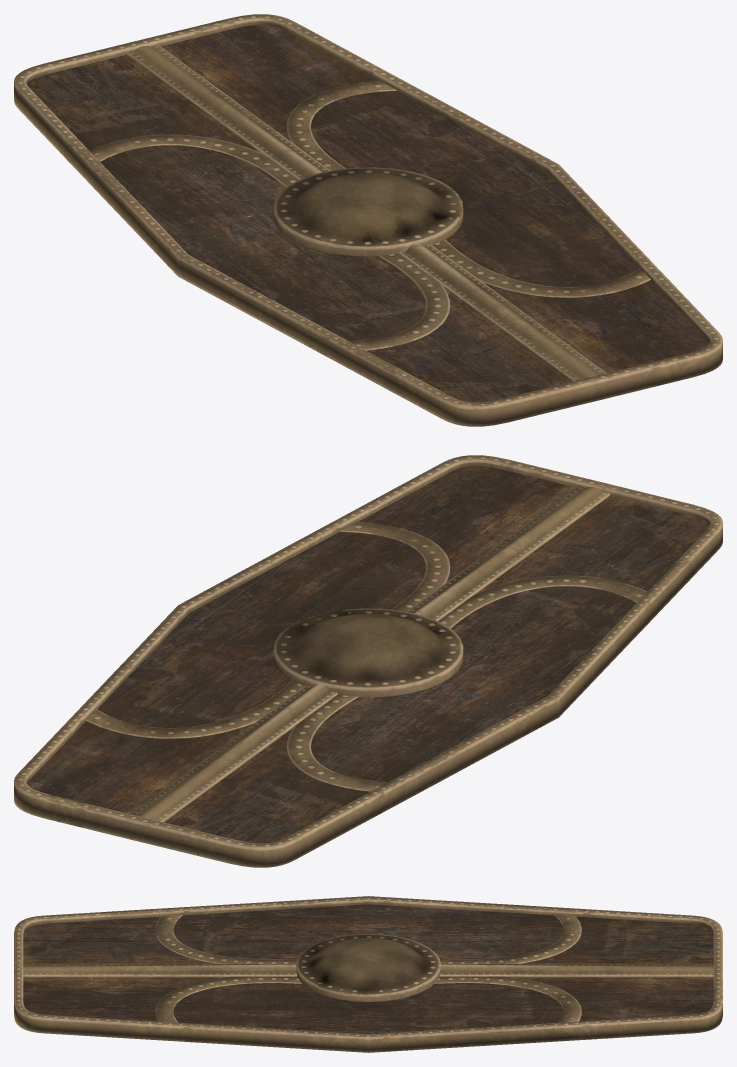
The model's file is dunland_wulf_shield_medium_a.fbx.
The picture shows the model from 3 angles, top to bottom: view 1: azimuth 30°, elevation 25°; view 2: azimuth 150°, elevation 25°; view 3: azimuth 270°, elevation 25°; orthographic projection. The views are drawn at different scales.
Parts seen in each view (by area): view 1: dunland_wulf_shield_medium_a; view 2: dunland_wulf_shield_medium_a; view 3: dunland_wulf_shield_medium_a.
Boxes of the visible parts, box(x1,y1,x2,y2) form: dunland_wulf_shield_medium_a: box(14, 14, 722, 426); dunland_wulf_shield_medium_a: box(14, 455, 722, 867); dunland_wulf_shield_medium_a: box(14, 896, 722, 1052).
Bounding box in the file's own units: 0.72 × 1.52 × 0.0818.
Materials: 1 (1 with a texture image).
